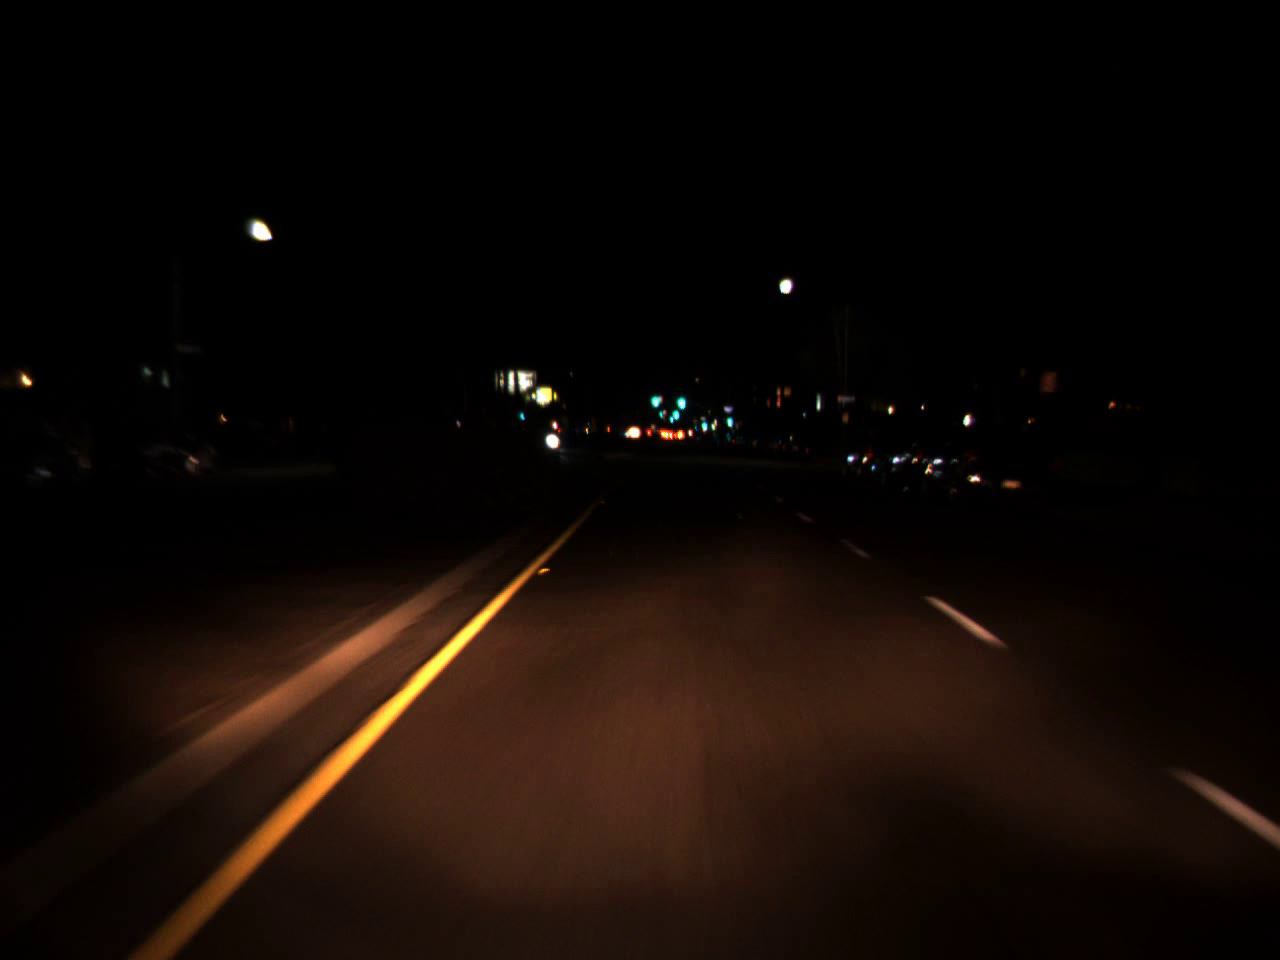go: (649, 382, 659, 412), (670, 397, 680, 424), (674, 389, 686, 410), (726, 406, 733, 430), (656, 404, 663, 422), (518, 406, 525, 421), (667, 409, 674, 424), (700, 415, 707, 430)
